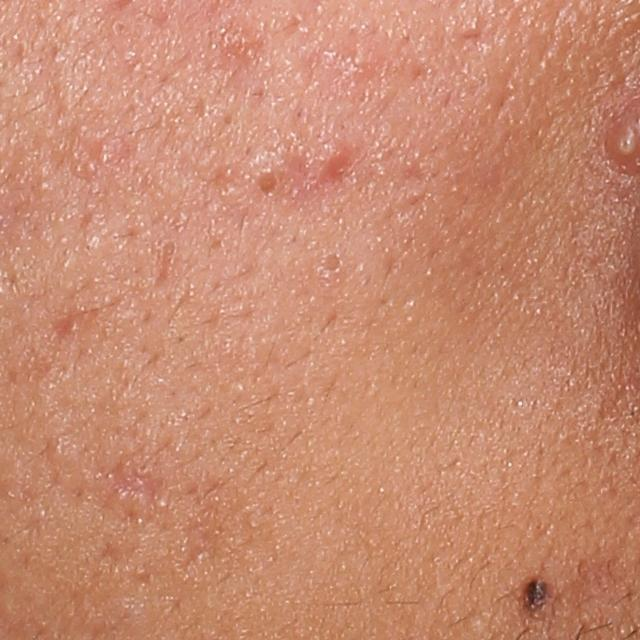atrophic_scar: (164, 481, 280, 589), (91, 459, 168, 511), (153, 236, 177, 291), (45, 309, 77, 348)
comedo: (314, 251, 348, 278), (255, 170, 283, 201), (107, 15, 128, 38), (218, 164, 236, 182)
nevus: (515, 571, 552, 625)
papule: (312, 148, 346, 185)
